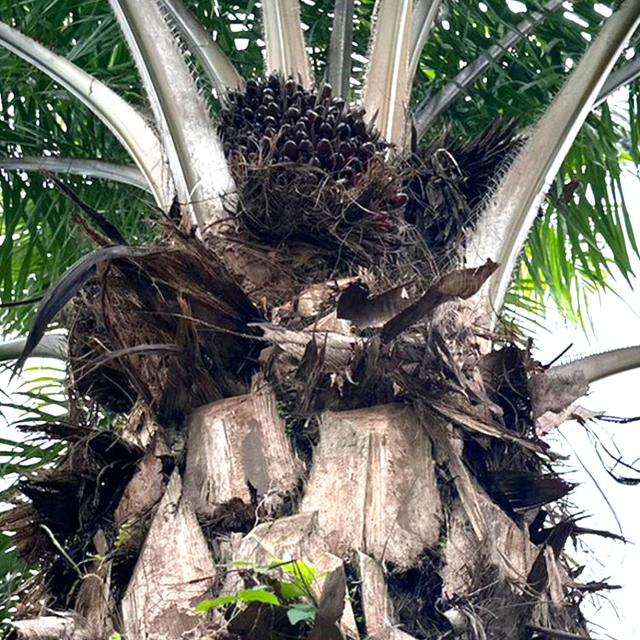almost: (213, 70, 413, 292)
